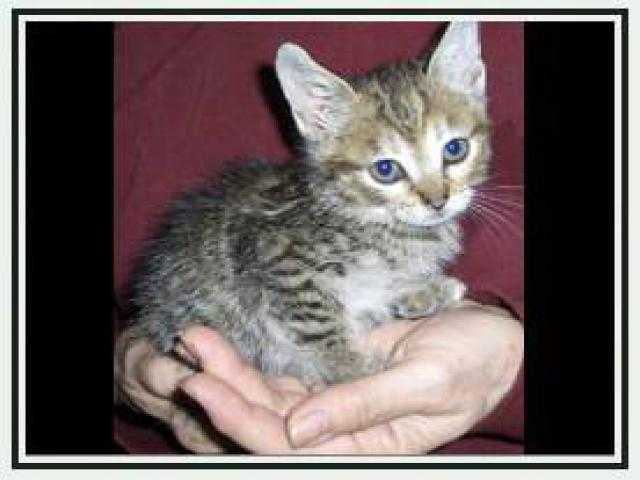cat: (122, 26, 500, 449)
